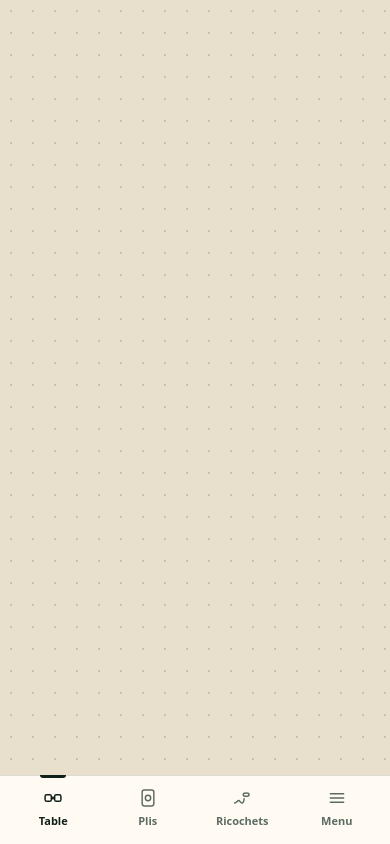
Test: menu burger mobile › choisir une entrée cachée navigue et ferme
The width and height of the screenshot is (390, 844).
Click the button "Menu" at coordinates (337, 808), box [290,784,384,832]
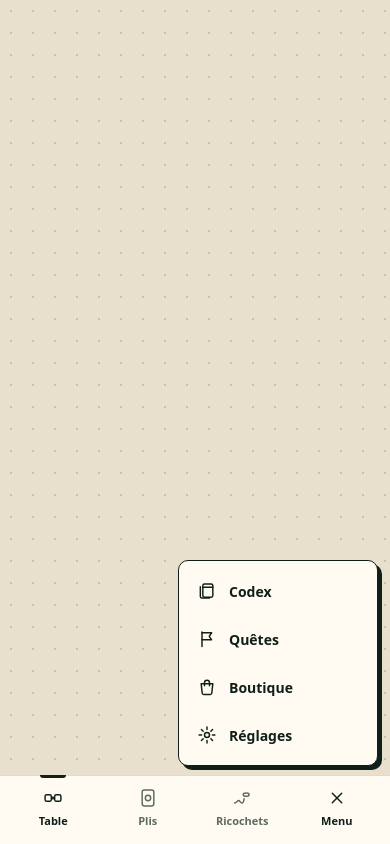
Click the button "Réglages" at coordinates (278, 735), box [185,711,371,759]
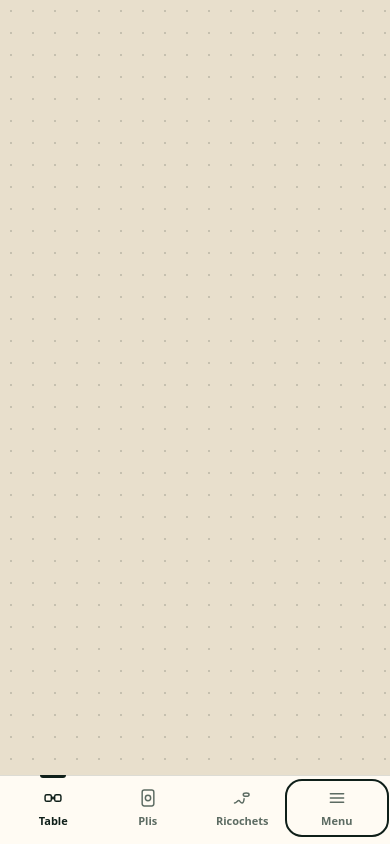
Expected: the button "Menu" is collapsed, [290,784,384,832]
